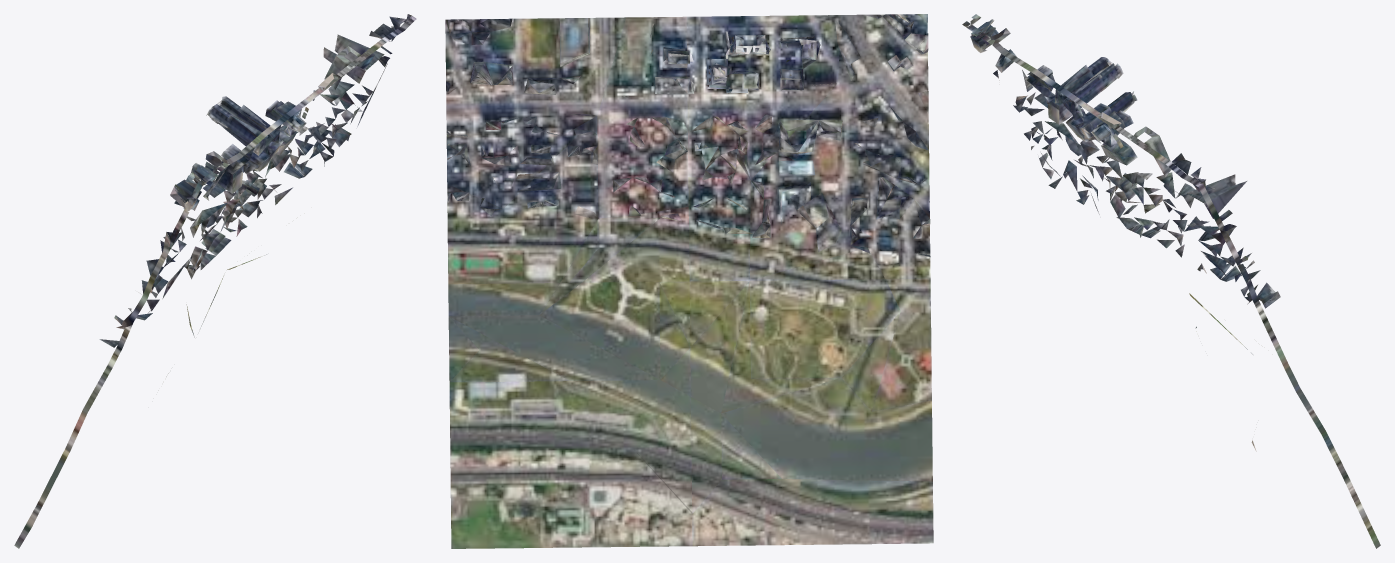
3 views of the same model, side by side, from view 1: azimuth 30°, elevation 25°; view 2: azimuth 150°, elevation 25°; view 3: azimuth 270°, elevation 25° (orthographic). The views are drawn at different scales.
Bounding box in the file's own units: 1222 × 1131 × 1028.
1 material, 1 textured.
